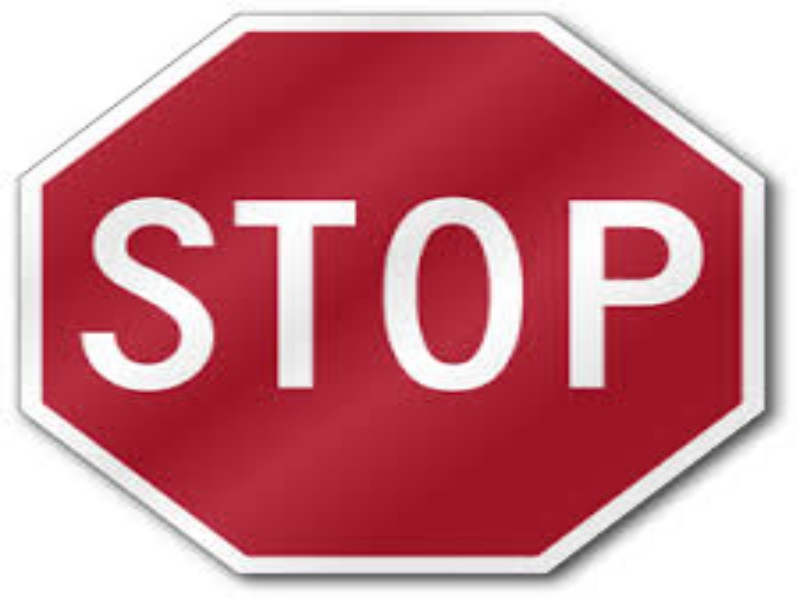Stop_Sign: (15, 13, 769, 581)
